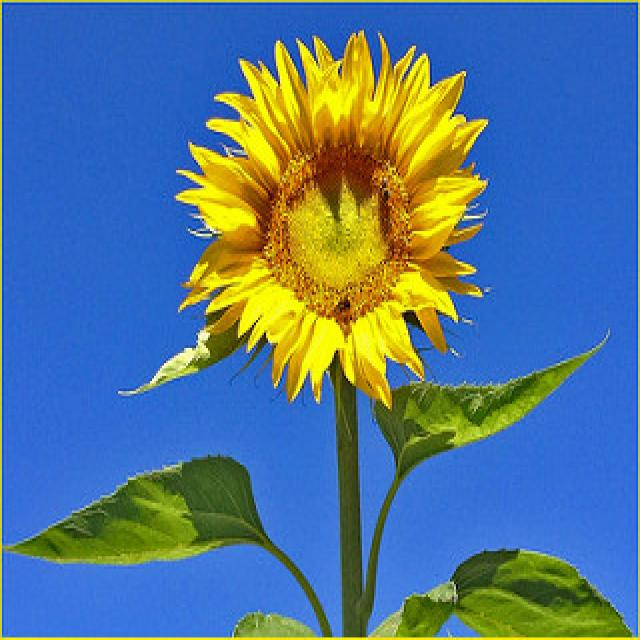sunflower: (176, 28, 489, 400)
